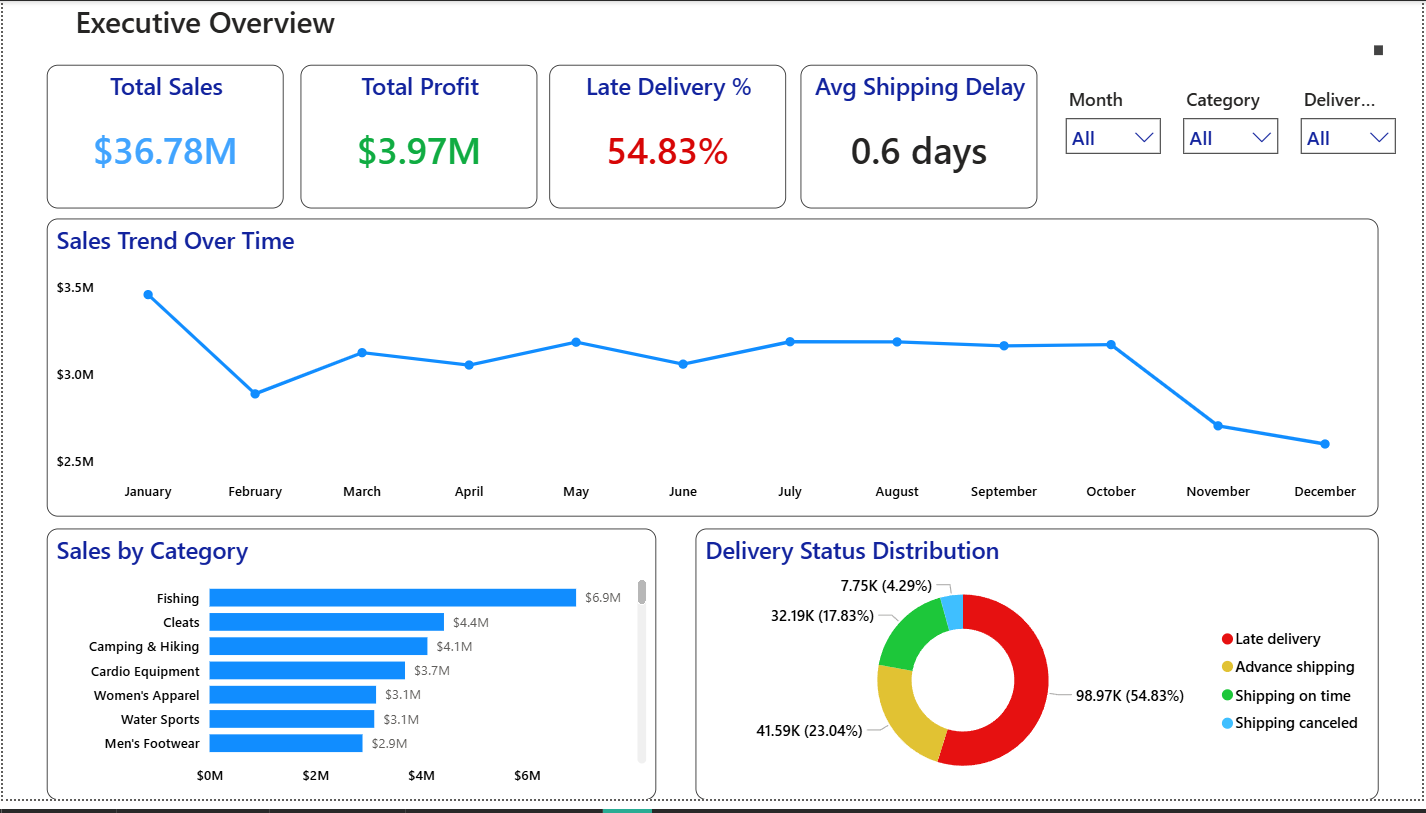

The page's visual inventory and layout, read from the dashboard file:
{"tool":"powerbi","page":{"name":"Overview ","canvas":[1280,720],"ordinal":0},"visuals":[{"type":"card","title":"Total Sales","fields":{"Values":["public orders.Total Sales"]},"box":[39.8,57.2,214,129.4],"z":0},{"type":"textbox","title":"Executive Overview","box":[44.8,0,1204.2,48.5],"z":1000},{"type":"card","title":"Total Profit","fields":{"Values":["public orders.Total Profit"]},"box":[268.7,57.2,214,129.4],"z":2000},{"type":"card","title":"Avg Shipping Delay","fields":{"Values":["public orders.Avg Delay KPI"]},"box":[719,57.2,214,129.4],"z":3000},{"type":"card","title":"Late Delivery %","fields":{"Values":["public orders.Late Delivery %"]},"box":[492.6,57.2,214,129.4],"z":4000},{"type":"lineChart","title":"Sales Trend Over Time","fields":{"Y":["public orders.Total Sales"],"Category":["public orders.order_date.Variation.Date Hierarchy.Month"]},"box":[39.8,196.5,1200.4,268.7],"z":5000},{"type":"barChart","title":"Sales by Category","fields":{"Y":["public orders.Total Sales"],"Category":["public orders.category"]},"box":[39.8,475.2,549.8,245.1],"z":6000},{"type":"donutChart","title":"Delivery Status Distribution","fields":{"Category":["public orders.delivery_status"],"Y":["CountNonNull(public orders.order_id)"]},"box":[624.5,475.2,615.8,245.1],"z":7000},{"type":"slicer","fields":{"Values":["public orders.month"]},"box":[947.9,72.1,105.7,82.1],"z":8000},{"type":"slicer","fields":{"Values":["public orders.category"]},"box":[1053.6,72.1,105.7,82.1],"z":9000},{"type":"slicer","fields":{"Values":["public orders.delivery_status"]},"box":[1159.4,72.1,105.7,82.1],"z":10000}]}

Visuals, with their boxes in screenshot pixels (x1, y1, x2, y2), scaled from the page's 1280x720 canvas onto the 1426x813 screenshot:
"Total Sales" card: l=44, t=65, r=283, b=211
"Executive Overview" textbox: l=50, t=0, r=1391, b=55
"Total Profit" card: l=299, t=65, r=538, b=211
"Avg Shipping Delay" card: l=801, t=65, r=1039, b=211
"Late Delivery %" card: l=549, t=65, r=787, b=211
"Sales Trend Over Time" lineChart: l=44, t=222, r=1382, b=525
"Sales by Category" barChart: l=44, t=537, r=657, b=812
"Delivery Status Distribution" donutChart: l=696, t=537, r=1382, b=812
slicer - public orders.month: l=1056, t=81, r=1174, b=174
slicer - public orders.category: l=1174, t=81, r=1292, b=174
slicer - public orders.delivery_status: l=1292, t=81, r=1409, b=174
